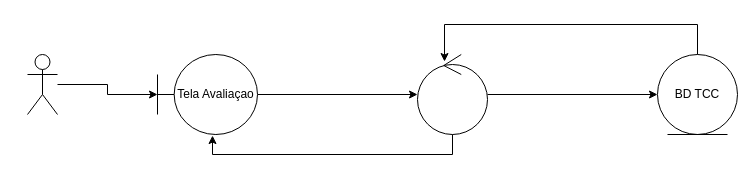
The diagram is 755 pixels wide and 180 high, and some of its shapes have lost their labels. The centre of each missing label's shape, as x and y in pixels:
"Controlador TCC" goes at point (452, 94).
"Professor" goes at point (42, 84).
